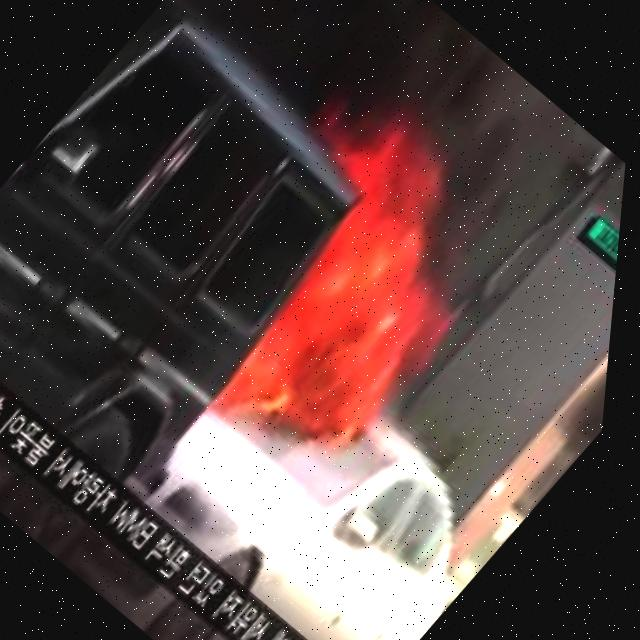Fire: (112, 86, 547, 498)
Smoke: (239, 0, 627, 245)
